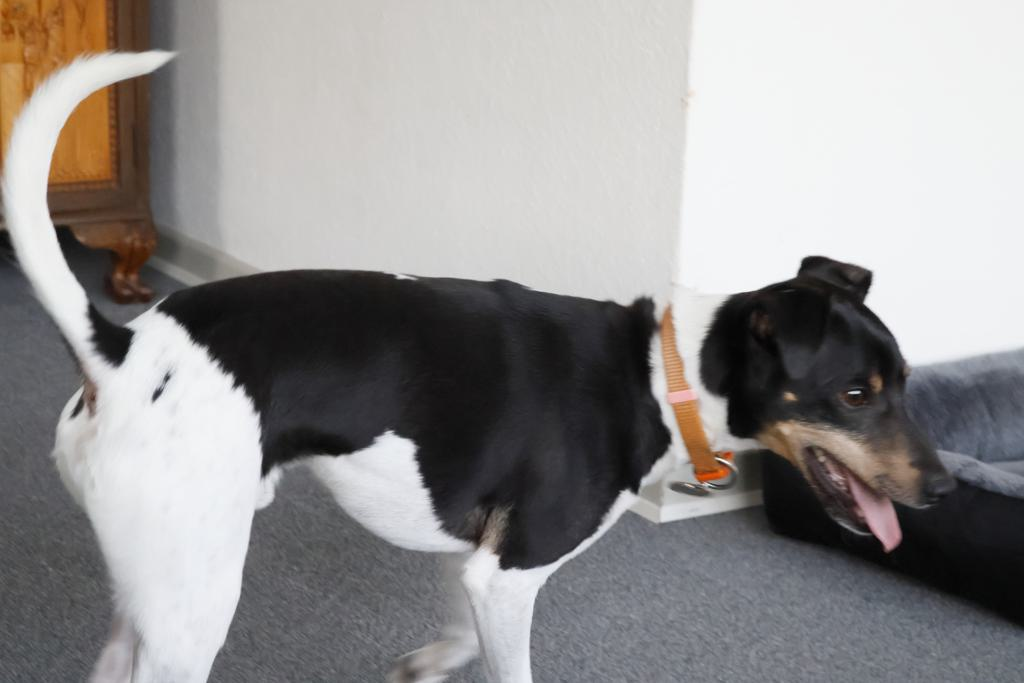Dog: (0, 44, 961, 683)
